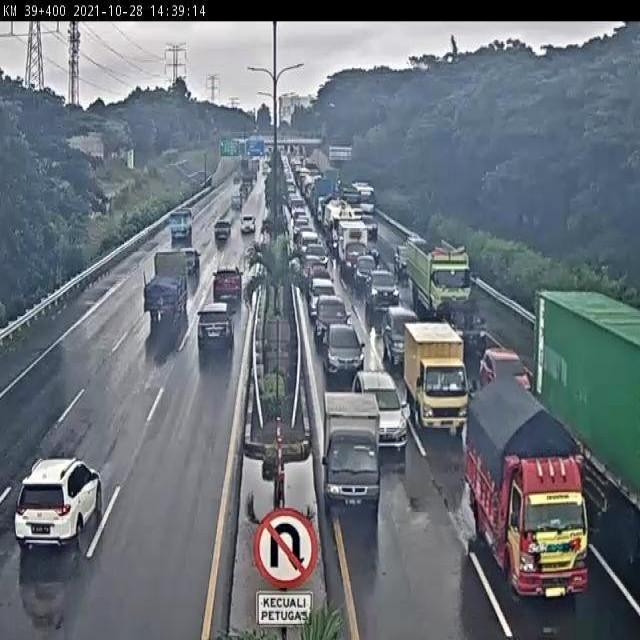big truck: (520, 276, 640, 545), (402, 230, 480, 334)
car: (11, 438, 119, 566), (348, 365, 413, 451), (320, 316, 368, 385), (439, 296, 486, 357), (194, 296, 237, 360), (380, 303, 422, 367), (479, 344, 533, 393), (310, 294, 350, 346), (210, 260, 247, 313), (366, 266, 403, 314), (208, 214, 235, 250), (237, 212, 259, 247)
mid truck: (450, 356, 589, 593), (393, 312, 458, 429), (136, 241, 194, 331), (163, 204, 198, 247), (180, 248, 205, 277)
small truck: (316, 373, 386, 512)
